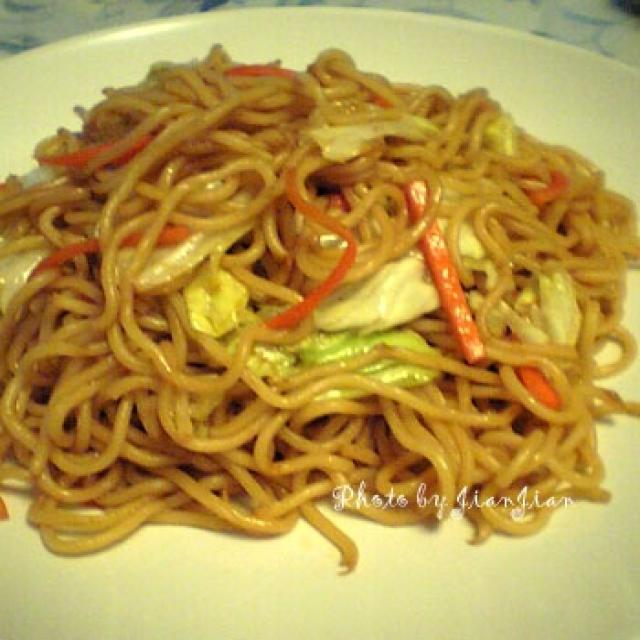面条主食: (11, 21, 627, 578)
